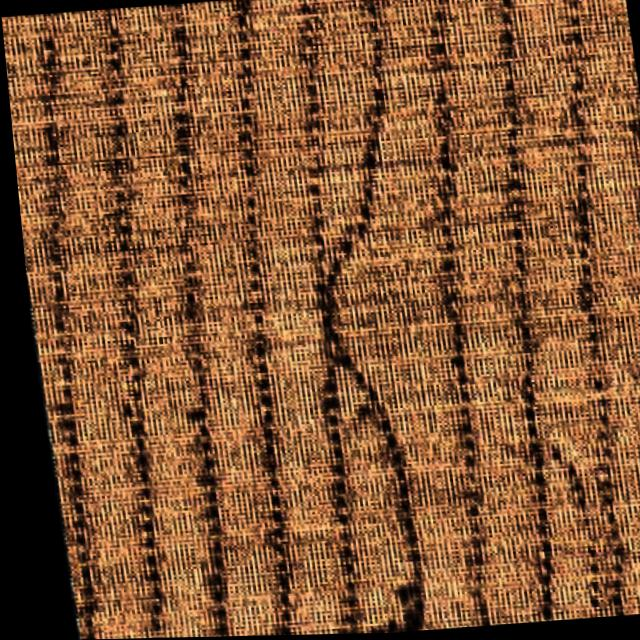Stitch: (260, 166, 438, 634)
